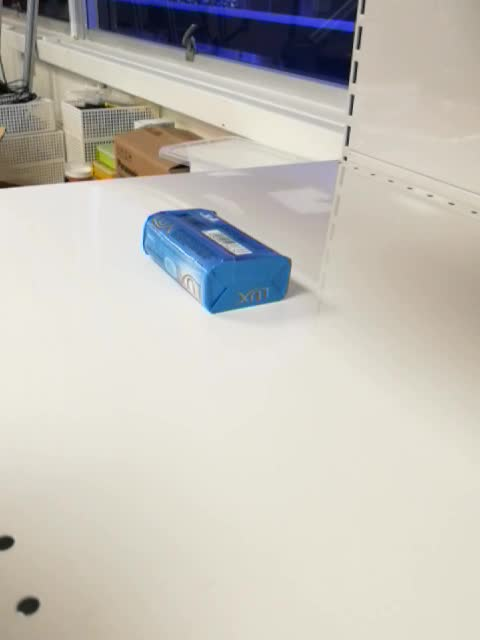soap: (140, 205, 294, 316)
